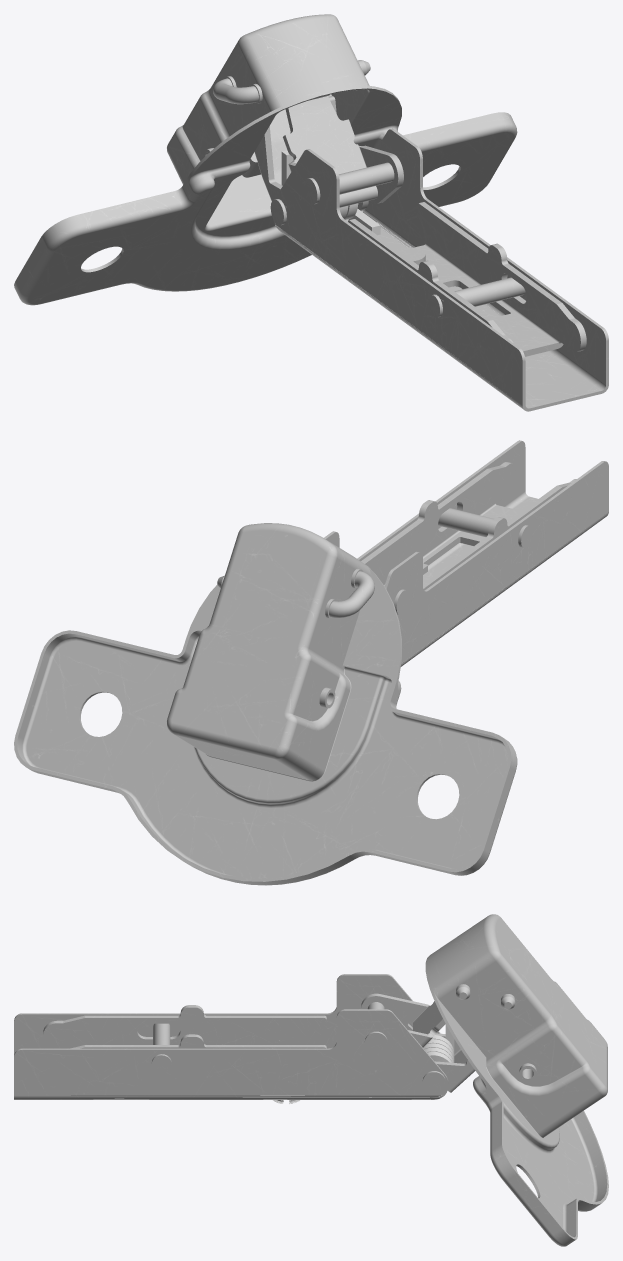
File: Hinge.glb
The picture shows the model from 3 angles, top to bottom: view 1: azimuth 30°, elevation 25°; view 2: azimuth 150°, elevation 25°; view 3: azimuth 270°, elevation 25°; orthographic projection. The views are drawn at different scales.
Visible parts, largest first — view 1: color.004, color, color-5, color.005, color-7.003, color-3.001, color-4, color-6.002, color-10; view 2: color.004, color, color-5, color-4, color-6.002; view 3: color.004, color, color-5, color.005, color-7.003, color-10, color-4, color-3.001.
Boxes of the visible parts, x1,y1,x2,y2 form: color.004: (14, 14, 517, 305); color: (273, 128, 608, 411); color-5: (348, 202, 586, 356); color.005: (283, 94, 403, 207); color-7.003: (254, 94, 368, 210); color-3.001: (304, 162, 394, 204); color-4: (428, 277, 525, 317); color-6.002: (213, 60, 370, 104); color-10: (281, 150, 380, 235); color.004: (14, 523, 517, 885); color: (324, 440, 608, 666); color-5: (361, 462, 576, 590); color-4: (438, 508, 532, 548); color-6.002: (217, 571, 374, 617); color.004: (425, 914, 608, 1246); color: (14, 974, 448, 1099); color-5: (43, 1005, 326, 1048); color.005: (361, 993, 445, 1047); color-7.003: (434, 1033, 475, 1092); color-10: (423, 1024, 454, 1062); color-4: (151, 1023, 171, 1073); color-3.001: (364, 1002, 387, 1053).
Size of the model in its own units: 0.081 by 0.0509 by 0.1027.
Materials: 1 (1 with a texture image).
